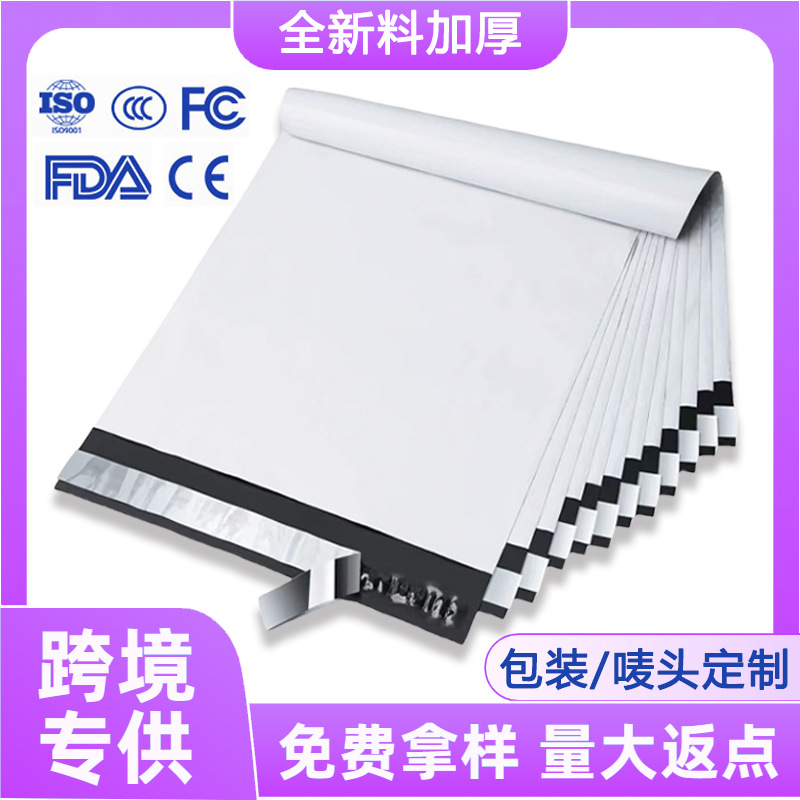塑料袋: (48, 0, 800, 774)
